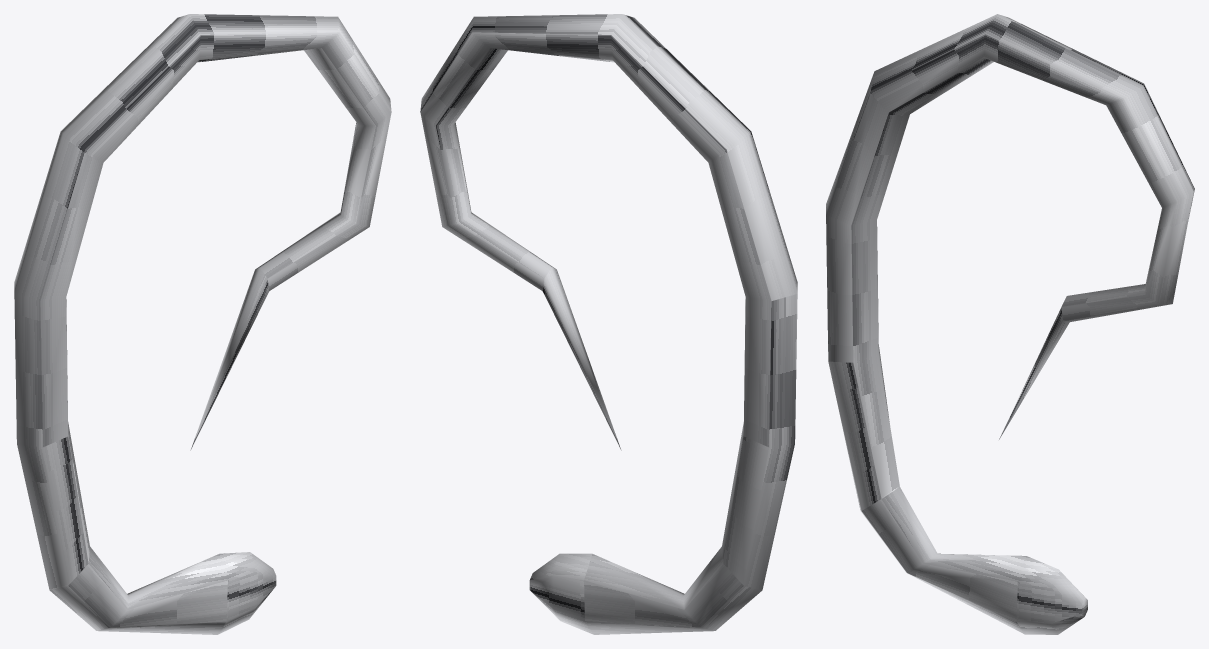
Rendered from snake_000025.obj.
3 renders of one model, left to right at view 1: azimuth 30°, elevation 25°; view 2: azimuth 150°, elevation 25°; view 3: azimuth 330°, elevation 25°, orthographic. The views are drawn at different scales.
Parts seen in each view (by area): view 1: Cylinder; view 2: Cylinder; view 3: Cylinder.
Part boxes in pixels (x1,y1,x2,y2): Cylinder: [14, 14, 391, 634]; Cylinder: [420, 14, 797, 634]; Cylinder: [826, 14, 1194, 634].
Bounding box in the file's own units: 3.06 × 4.88 × 0.3671.
